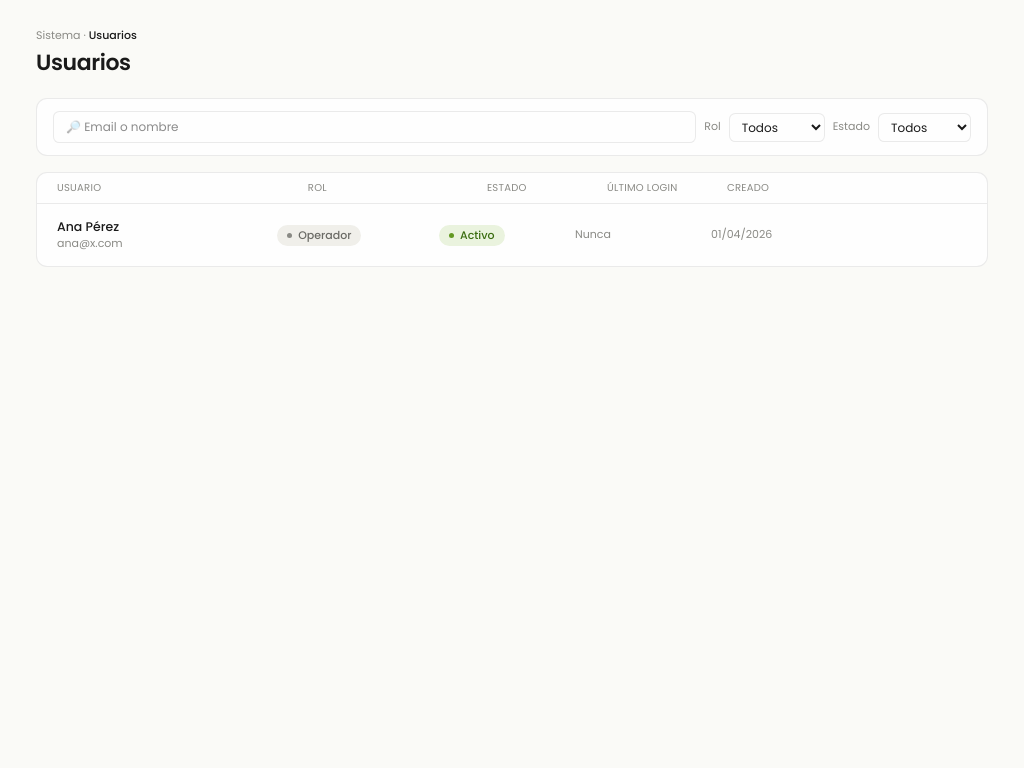
Test: <UsersPage /> › clicking active pill on other user opens the active modal
The width and height of the screenshot is (1024, 768).
Expected: the text "Ana Pérez" is shown, 57,218 -> 119,235
Click the button "Activo": (472,235) 439,224 -> 505,246
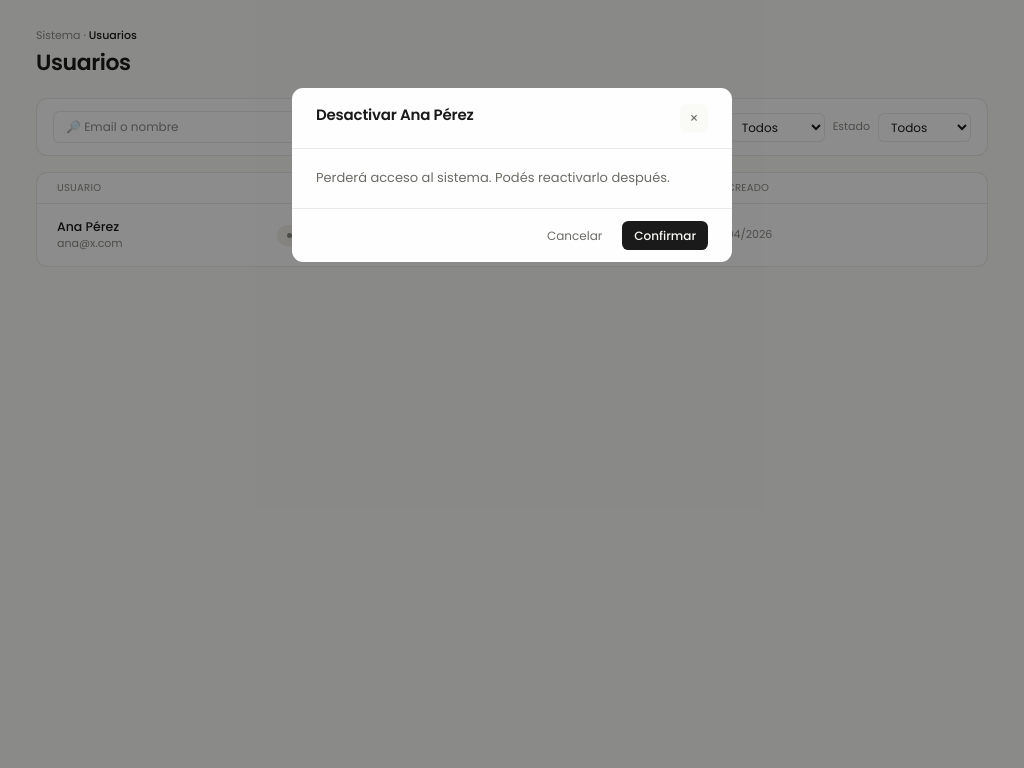
Expected: the heading "Desactivar Ana Pérez" is shown, 316,104 -> 474,126
